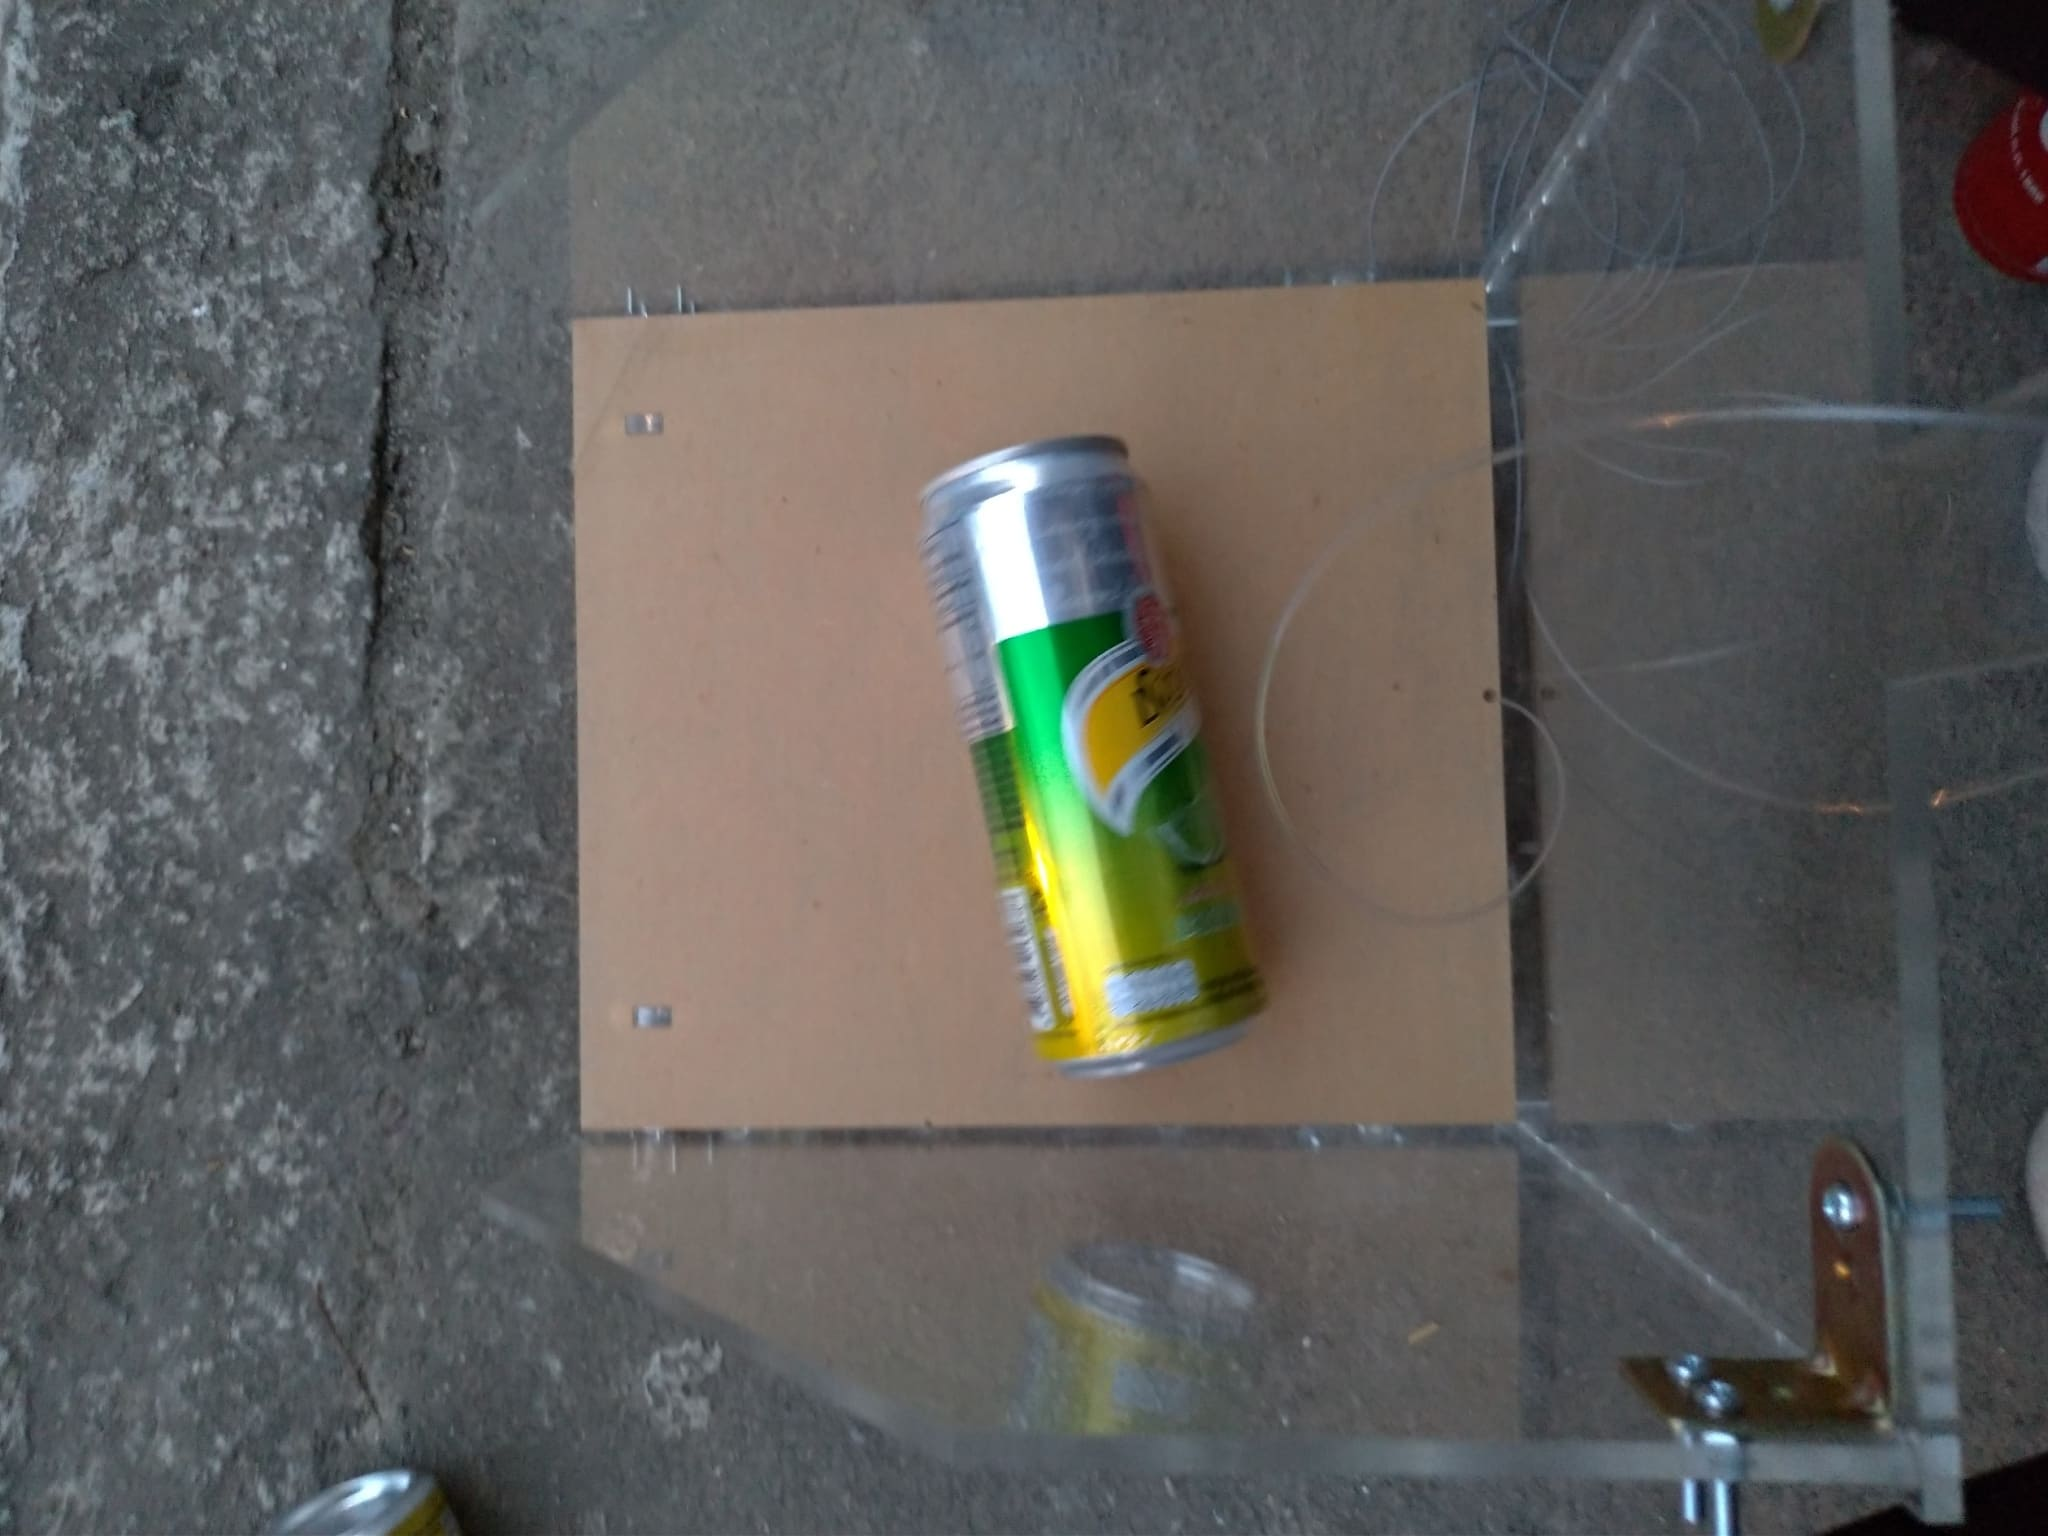AlCan: (908, 431, 1242, 1075), (1951, 82, 2048, 281)
